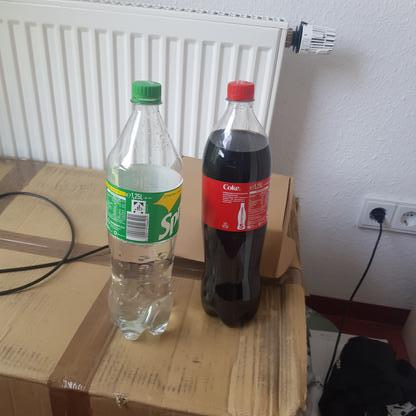coca-cola: (198, 78, 274, 328)
